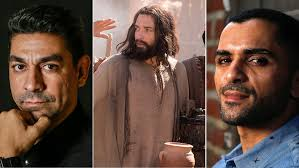middle_eastern_male: (4, 27, 80, 123)
